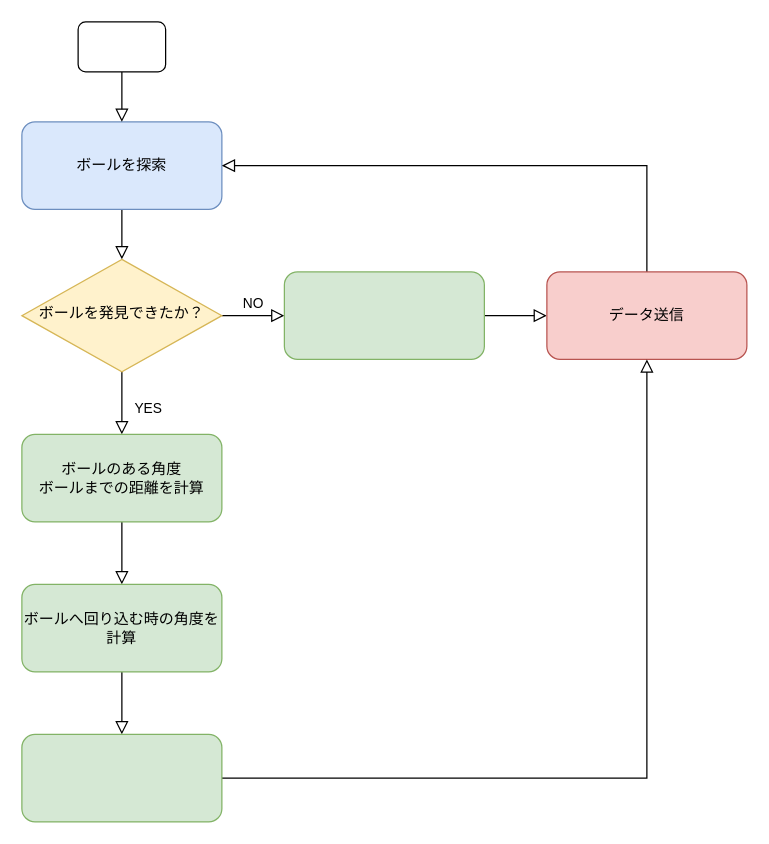
This 769x844 diagram has some shape labels left out. The shapes that lost their labels are listed below. From the top down, each one's box as (x1, y1, x2, y2) in pixels, then its label:
(77, 21, 166, 72): 処理開始
(283, 271, 484, 359): 移動角度を正面 向く角度は正面に
(21, 733, 222, 822): 移動角度に代入 向く角度は正面に
